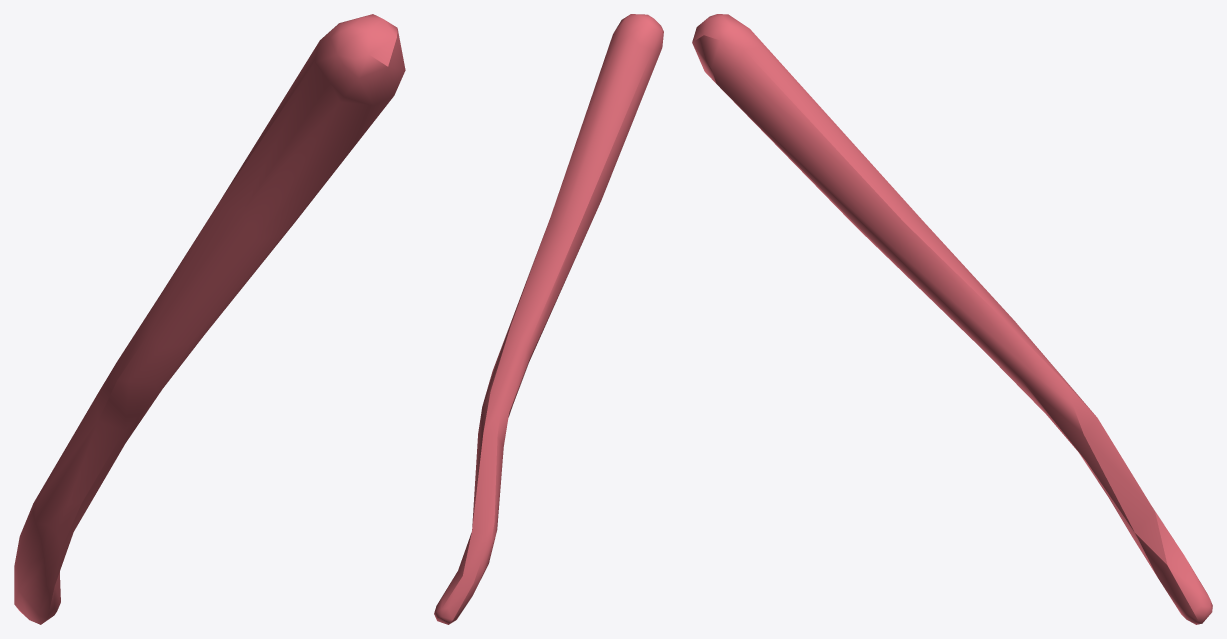
The model's file is fma18887_fj3571.glb.
The picture shows the model from 3 angles, left to right: view 1: azimuth 30°, elevation 25°; view 2: azimuth 150°, elevation 25°; view 3: azimuth 270°, elevation 25°; orthographic projection. The views are drawn at different scales.
Visible parts, largest first — view 1: FMA18887_FJ3571; view 2: FMA18887_FJ3571; view 3: FMA18887_FJ3571.
Part boxes in pixels (x1,y1,x2,y2): FMA18887_FJ3571: (14, 14, 405, 624); FMA18887_FJ3571: (434, 14, 663, 624); FMA18887_FJ3571: (692, 14, 1212, 624).
Size of the model in its own units: 0.0056 by 0.0576 by 0.0452.
